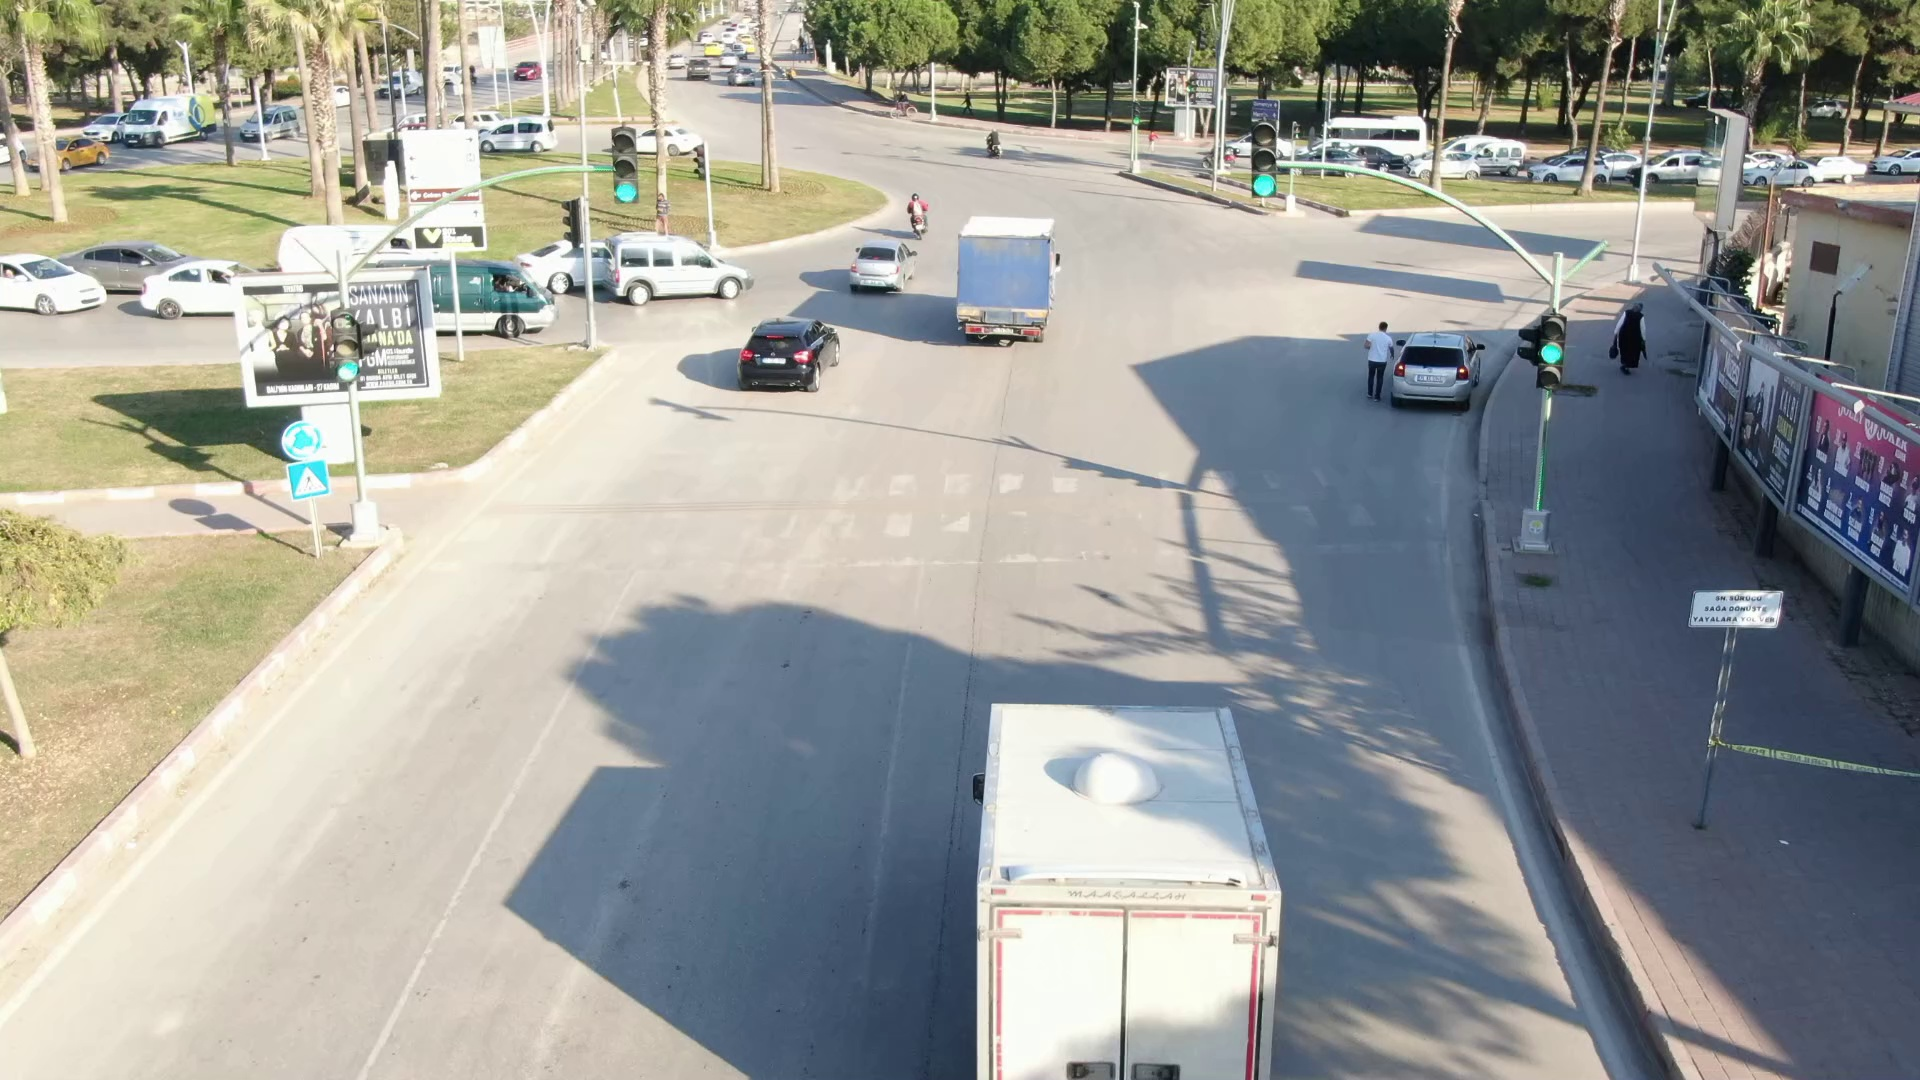car: (943, 204, 1083, 360), (728, 307, 872, 406), (604, 225, 766, 311), (1391, 327, 1487, 426), (475, 104, 559, 162), (838, 235, 923, 290)
person: (1603, 298, 1652, 383), (1356, 315, 1394, 406)
